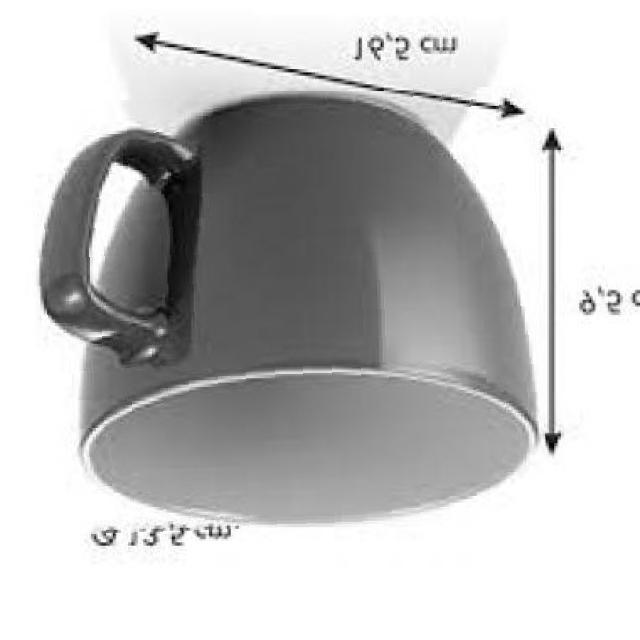cup: (28, 86, 547, 536)
